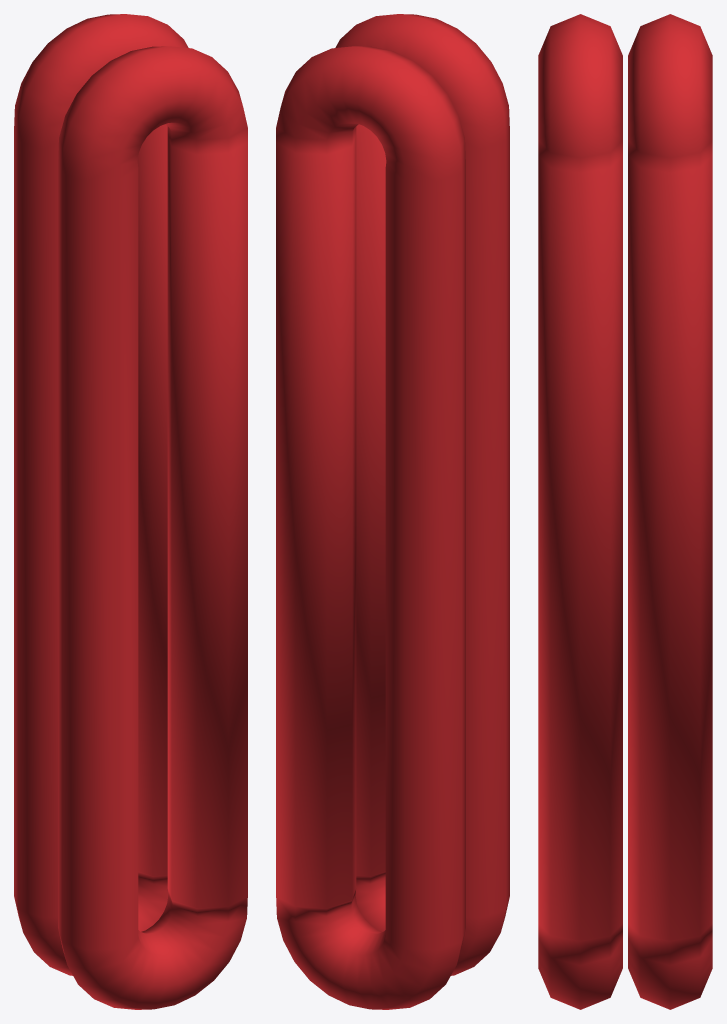
Rendered from Conduct2X.fbx.
The picture shows the model from 3 angles, left to right: view 1: azimuth 30°, elevation 25°; view 2: azimuth 150°, elevation 25°; view 3: azimuth 270°, elevation 25°; orthographic projection.
Parts seen in each view (by area): view 1: Cylinder; view 2: Cylinder; view 3: Cylinder.
Boxes of the visible parts, x1=… form: Cylinder: x1=14, y1=14, x2=247, y2=1009; Cylinder: x1=276, y1=14, x2=509, y2=1009; Cylinder: x1=538, y1=14, x2=712, y2=1009.
Bounding box in the file's own units: 252 × 1271 × 206.
